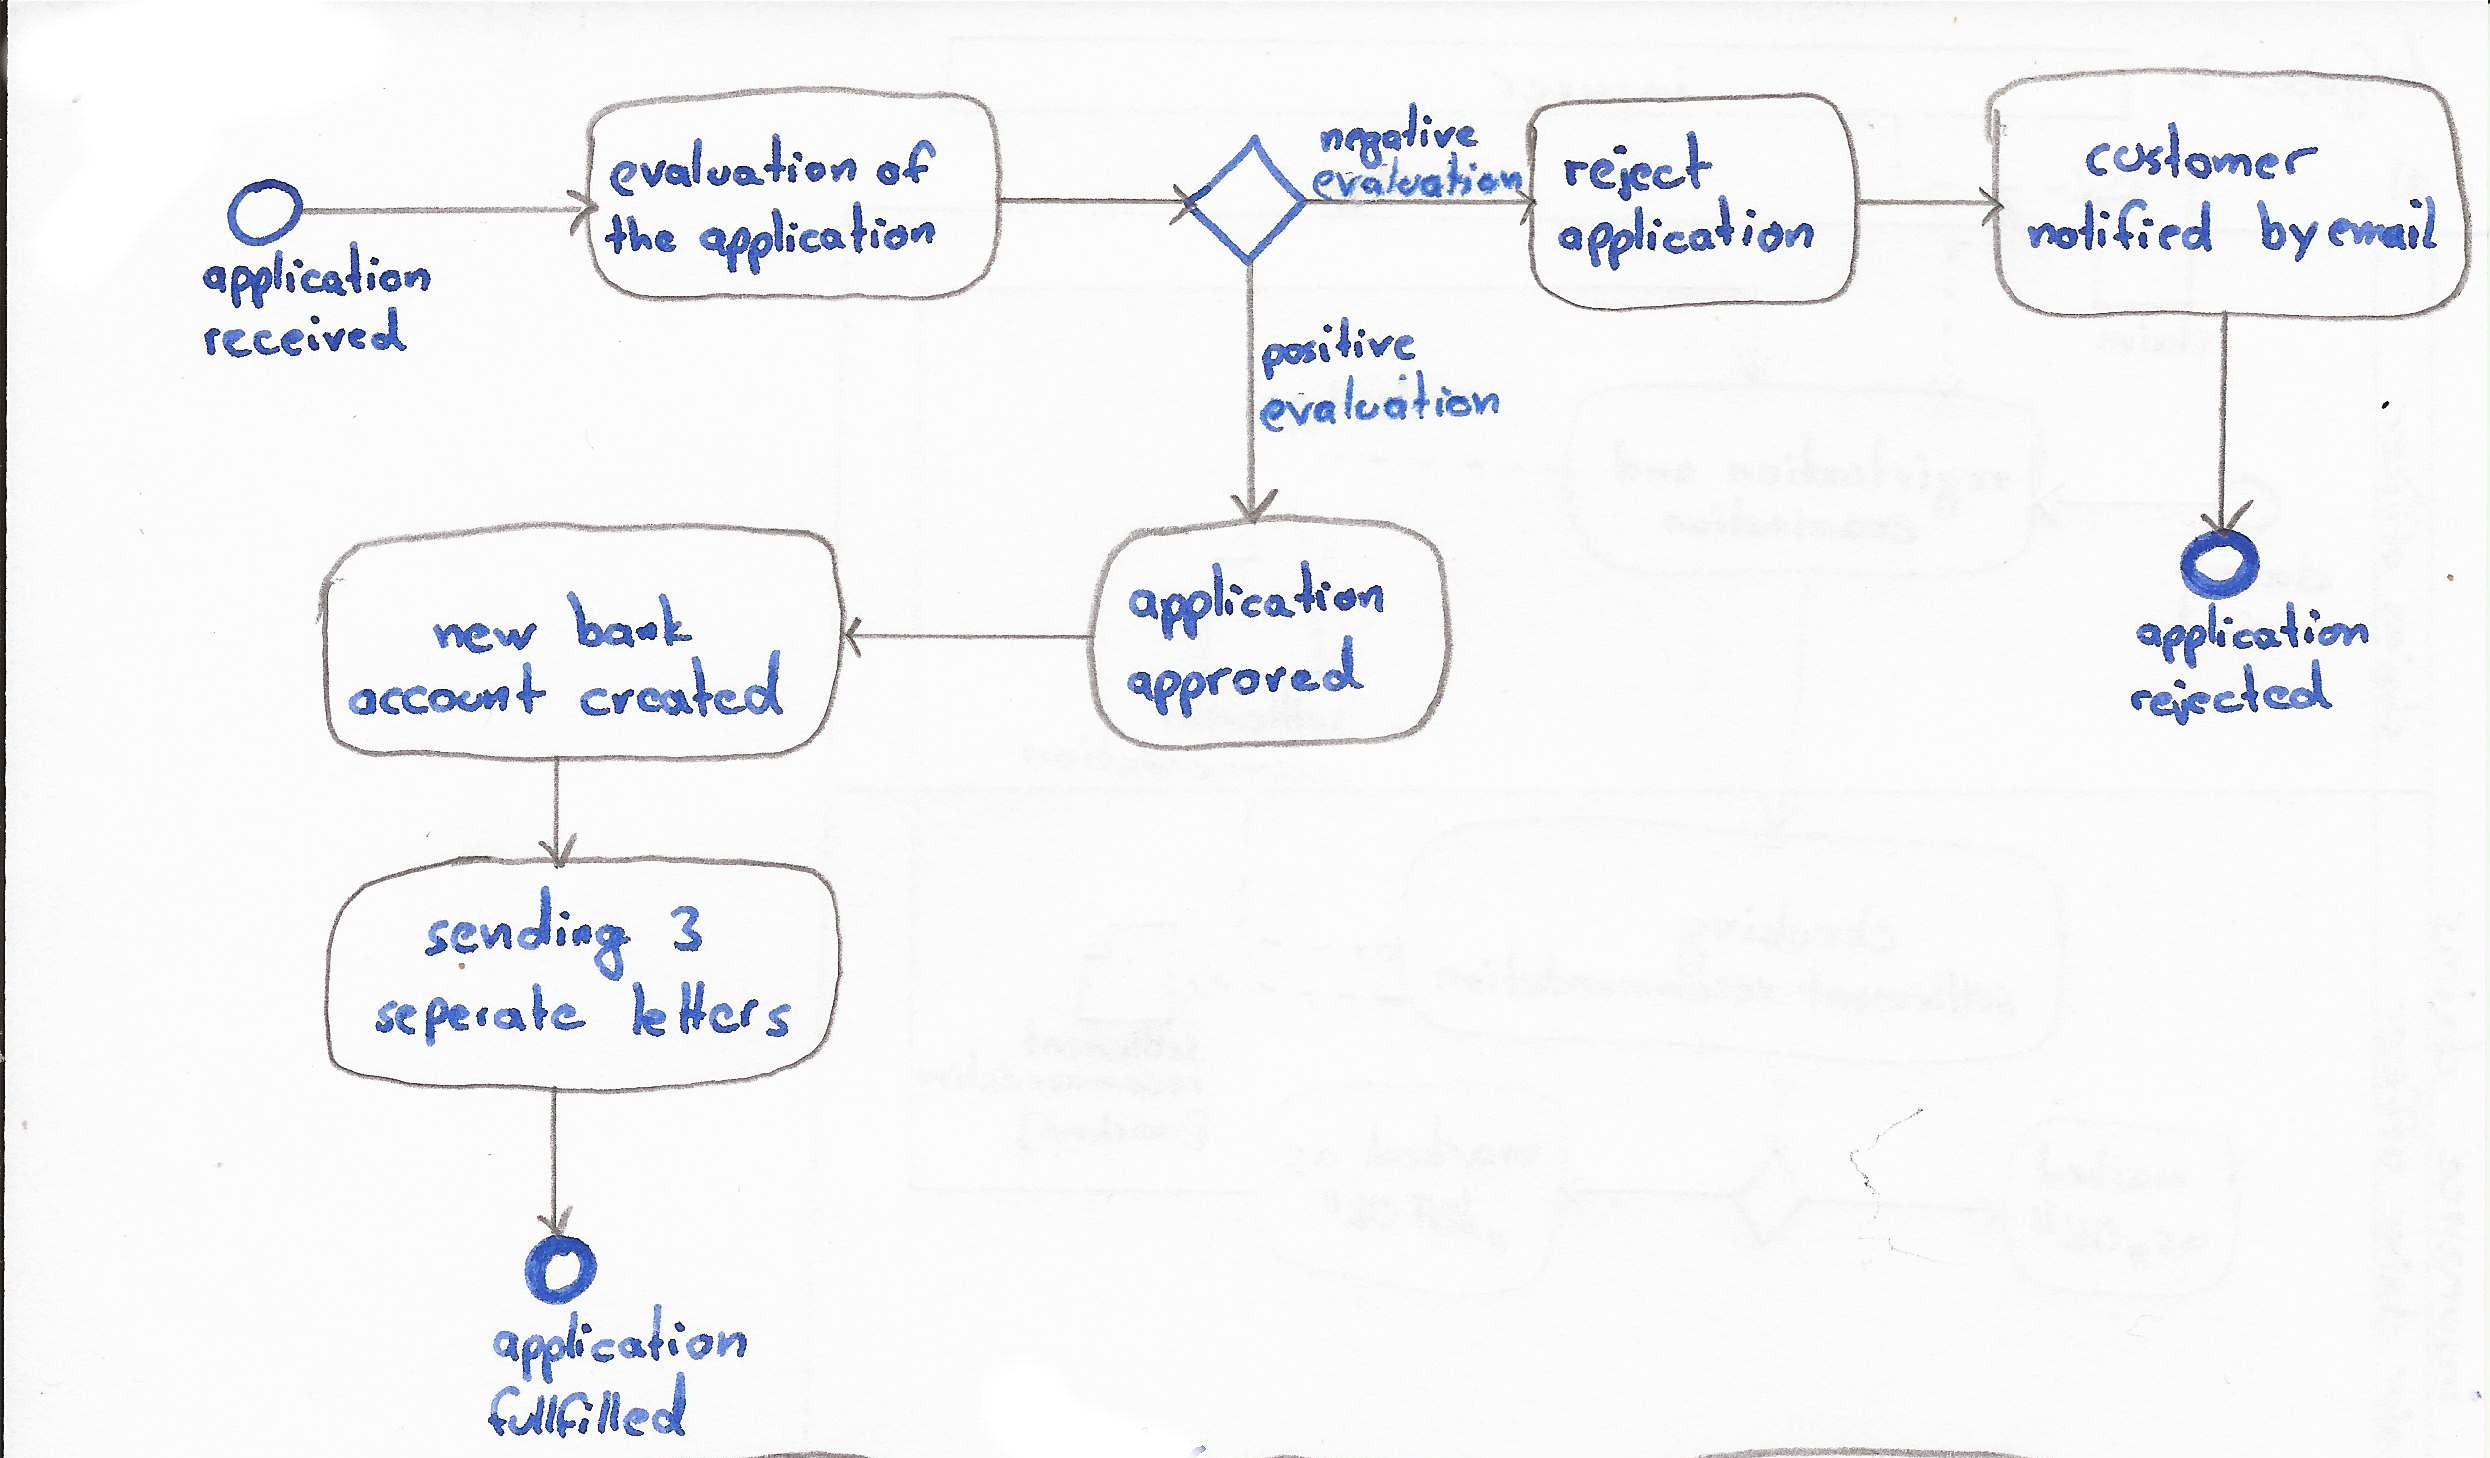3: (663, 892, 715, 960)
account: (338, 665, 559, 724)
application: (1123, 555, 1392, 642), (696, 194, 946, 274), (1555, 201, 1817, 273), (481, 1309, 751, 1376), (2134, 602, 2374, 665), (198, 245, 436, 307)
approved: (1123, 635, 1366, 727)
bank: (564, 587, 694, 656)
by: (2252, 193, 2323, 271)
created: (581, 653, 793, 722)
customer: (2080, 115, 2323, 191)
email: (2323, 196, 2457, 259)
evaluation: (606, 135, 864, 201), (1258, 373, 1503, 437), (1312, 154, 1530, 207)
fullfilled: (486, 1375, 703, 1442)
letters: (621, 982, 796, 1043)
negative: (1314, 106, 1484, 160)
new: (425, 601, 550, 660)
notified: (2021, 189, 2242, 259)
of: (875, 132, 939, 193)
positive: (1256, 318, 1421, 384)
received: (198, 312, 411, 366)
reject: (1562, 135, 1718, 201)
rejected: (2127, 661, 2339, 732)
sending: (423, 885, 658, 981)
seperate: (370, 984, 606, 1043)
the: (604, 205, 684, 274)
